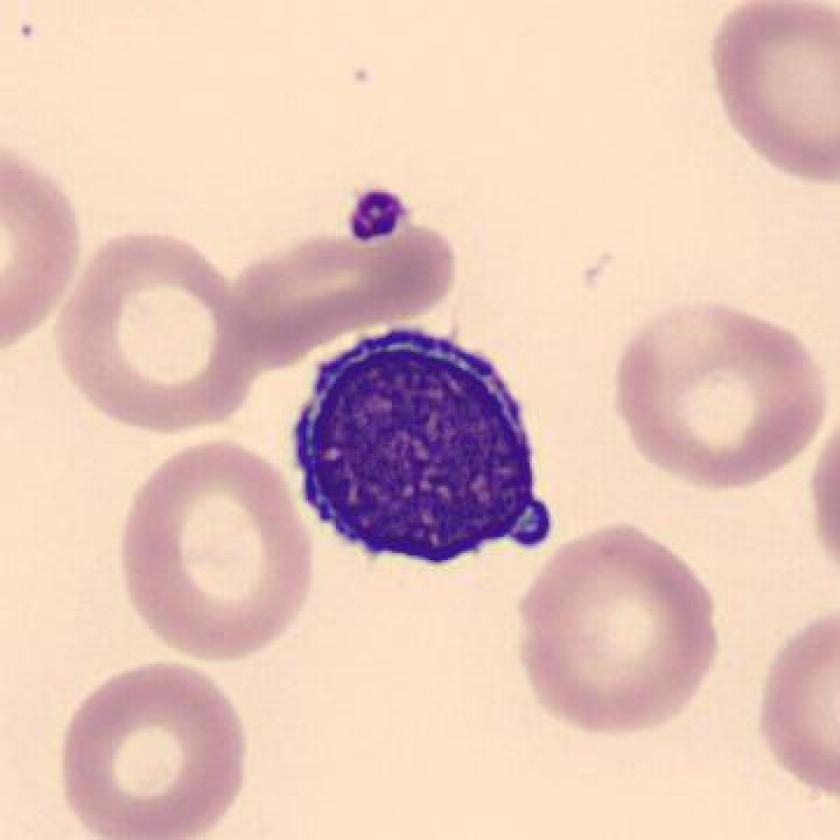lymphocyte: (281, 318, 568, 598)
platelets: (339, 184, 415, 252)
